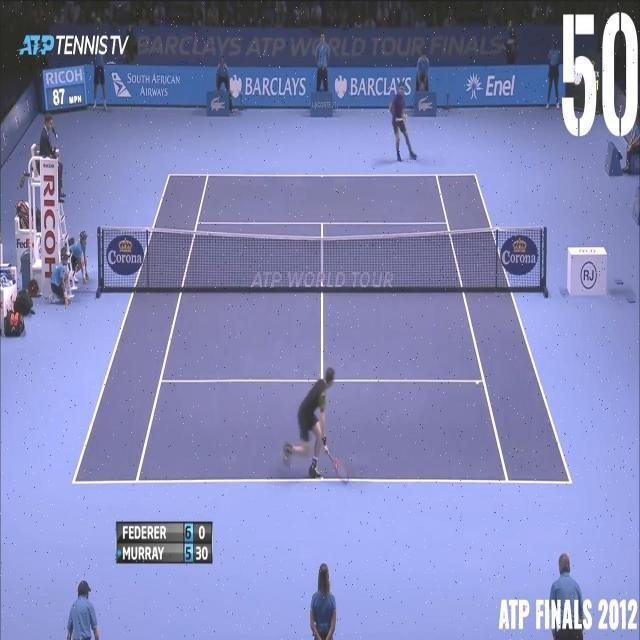left side: (74, 175, 208, 483), (437, 175, 571, 482)
player: (282, 365, 338, 480), (386, 81, 416, 162)
